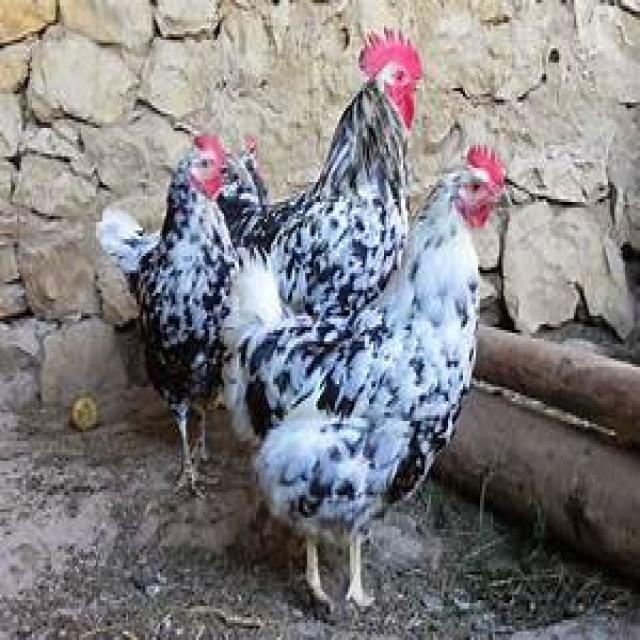hen: (240, 148, 500, 606), (220, 33, 422, 319), (138, 138, 239, 479)
